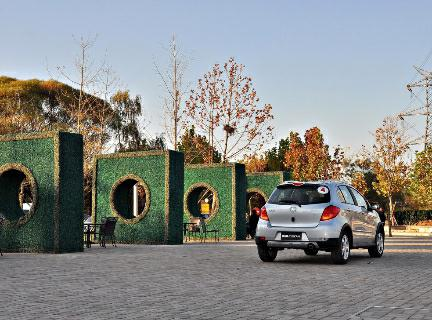长城-C20R: (252, 176, 395, 271)
